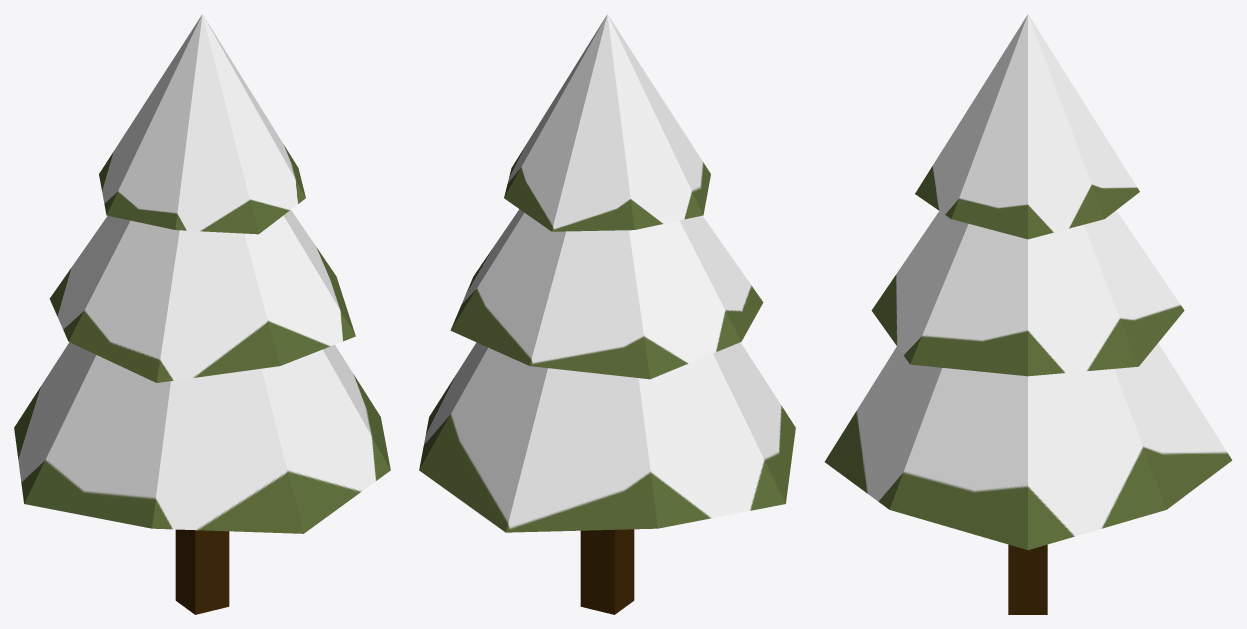
Rendered from Spruce3.fbx.
The picture shows the model from 3 angles, left to right: view 1: azimuth 30°, elevation 25°; view 2: azimuth 150°, elevation 25°; view 3: azimuth 270°, elevation 25°; orthographic projection.
Parts seen in each view (by area): view 1: Cone; view 2: Cone; view 3: Cone.
Boxes of the visible parts, x1,y1,x2,y2 form: Cone: (14, 14, 390, 614); Cone: (419, 14, 795, 614); Cone: (824, 14, 1232, 614).
Bounding box in the file's own units: 386 × 610 × 381.
